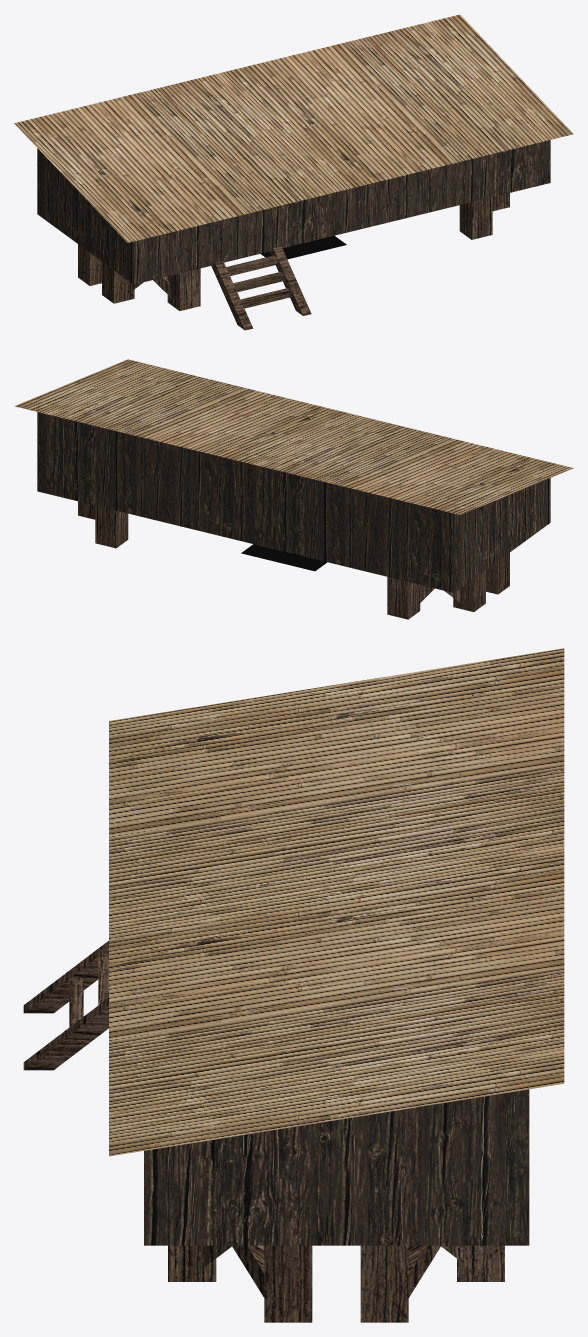
File: build_d1.FBX
3 renders of one model, top to bottom at view 1: azimuth 30°, elevation 25°; view 2: azimuth 150°, elevation 25°; view 3: azimuth 270°, elevation 25°, orthographic. The views are drawn at different scales.
Visible parts, largest first — view 1: build_d1; view 2: build_d1; view 3: build_d1.
Part boxes in pixels (bbox=[...]): build_d1: bbox=[14, 14, 573, 330]; build_d1: bbox=[14, 359, 573, 619]; build_d1: bbox=[23, 648, 564, 1322].
Size of the model in its own units: 214 by 60.34 by 112.
